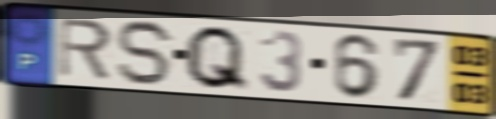3: (256, 28, 304, 96)
6: (331, 32, 383, 102)
7: (391, 35, 444, 104)
Q: (182, 23, 252, 94)
R: (57, 16, 115, 82)
S: (114, 18, 178, 88)
